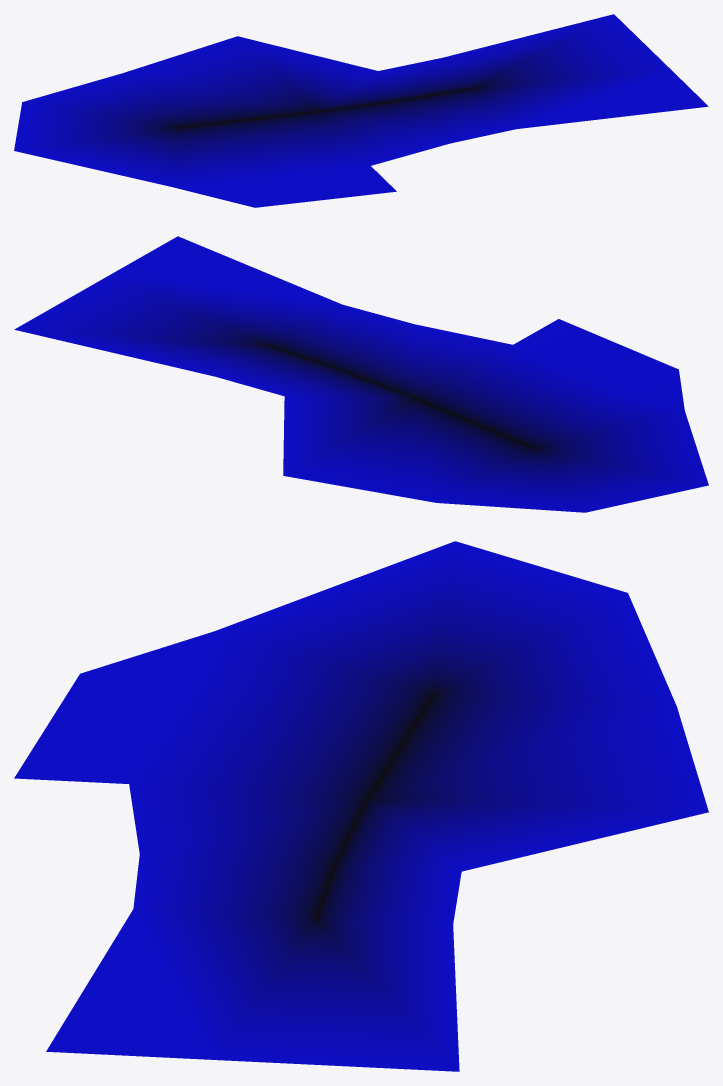
3 views of the same model, one above another, from view 1: azimuth 30°, elevation 25°; view 2: azimuth 150°, elevation 25°; view 3: azimuth 270°, elevation 25° (orthographic). The views are drawn at different scales.
Visible parts, largest first — view 1: G:\FFXIV-MapTools\exports\s1f3\bg\ffxiv\sea_s1\fld\s1f3\bgpa; view 2: G:\FFXIV-MapTools\exports\s1f3\bg\ffxiv\sea_s1\fld\s1f3\bgpa; view 3: G:\FFXIV-MapTools\exports\s1f3\bg\ffxiv\sea_s1\fld\s1f3\bgpa.
Boxes of the visible parts, x1,y1,x2,y2 form: G:\FFXIV-MapTools\exports\s1f3\bg\ffxiv\sea_s1\fld\s1f3\bgpa: (14, 14, 708, 207); G:\FFXIV-MapTools\exports\s1f3\bg\ffxiv\sea_s1\fld\s1f3\bgpa: (14, 236, 708, 512); G:\FFXIV-MapTools\exports\s1f3\bg\ffxiv\sea_s1\fld\s1f3\bgpa: (14, 541, 708, 1071).
Bounding box in the file's own units: 142 × 2.44 × 81.5.
